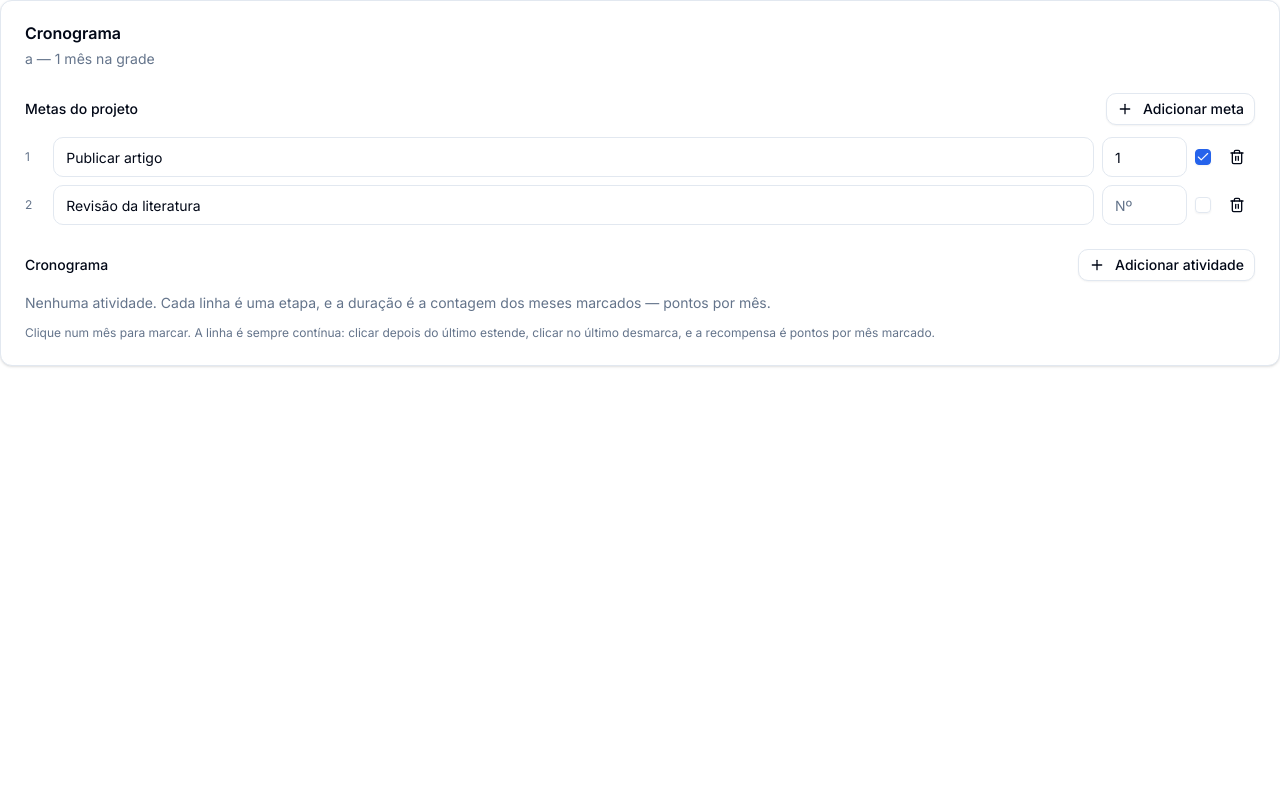
Scenario: checkbox de meta cumprida › recusa do servidor chega como aviso, e a linha não muda
The width and height of the screenshot is (1280, 800).
Step 1. Click the checkbox named "Cumprir meta 2" → (1203, 205), box [1195, 197, 1211, 213]
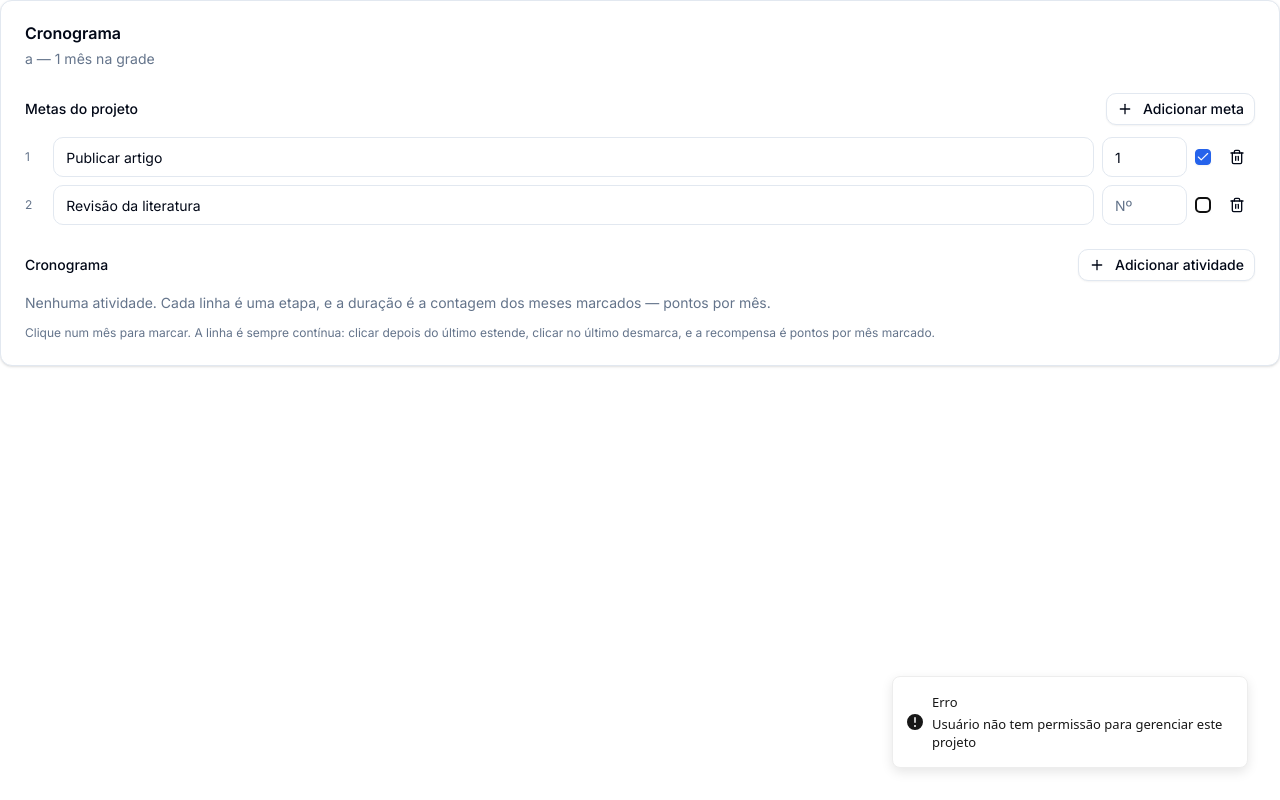
Expected: the text "Usuário não tem permissão para gerenciar este projeto" is shown, [932, 715, 1231, 751]
